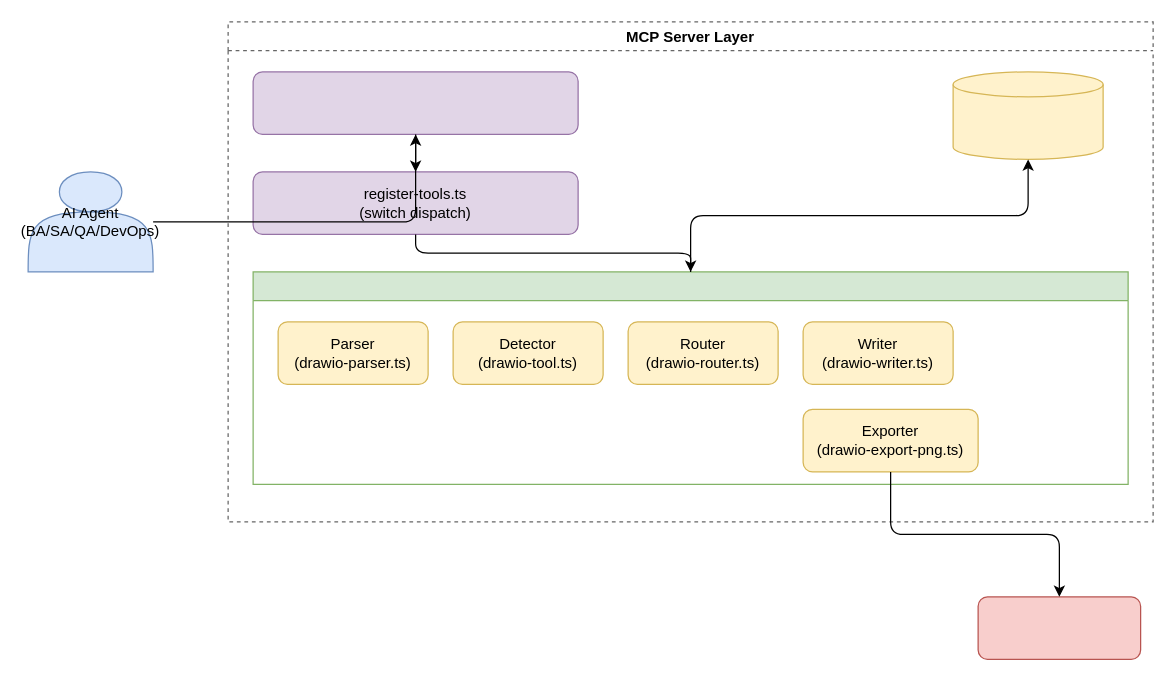
Some shapes in this 1175 by 681 pixel diagram are drawn without their labels. The box of each missing label's shape, as (x1, y1, x2, y2) in pixels:
draw.io CLI (External): (977, 596, 1141, 659)
Draw.io Engine: (252, 271, 1128, 484)
Tool Registry (find_tools + execute_dynamic_tool): (252, 71, 578, 134)
Workspace Filesystem (.drawio + .png): (952, 71, 1103, 159)
